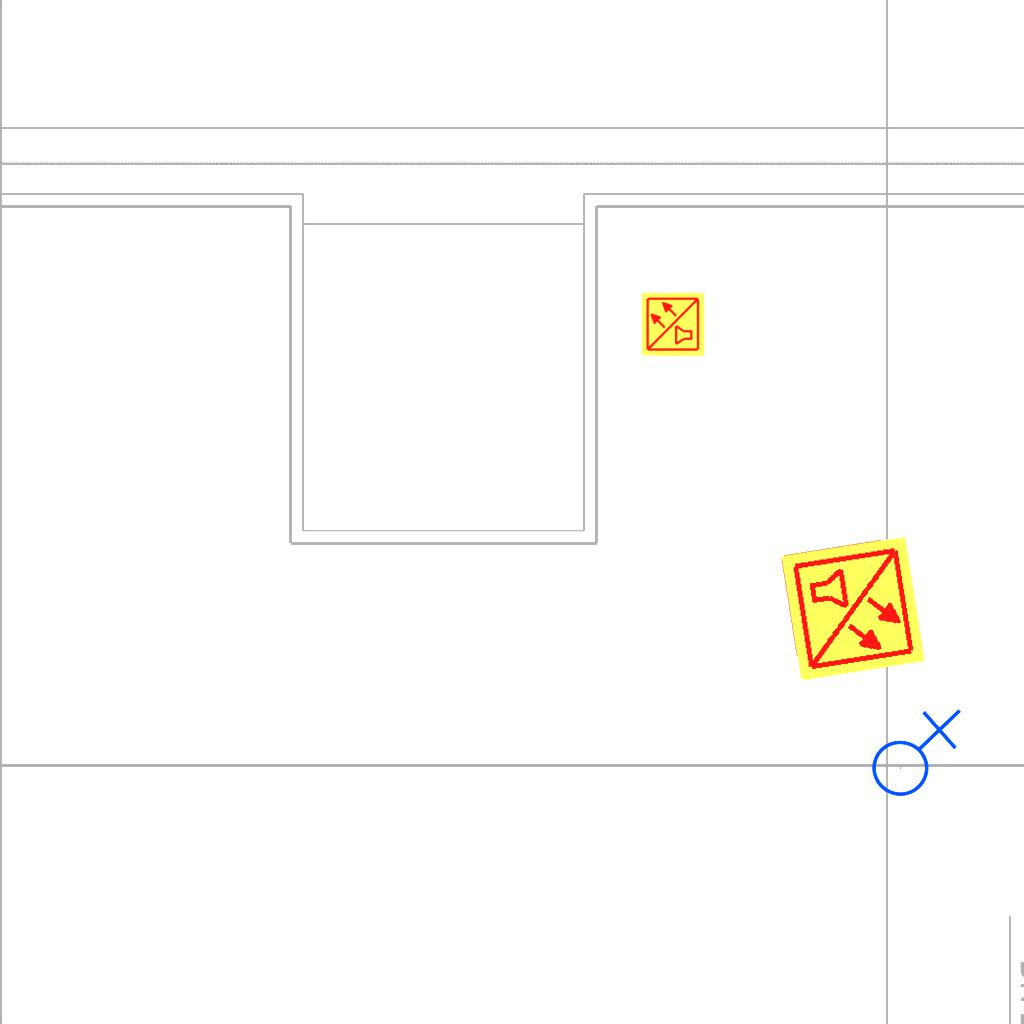Elektroanschluss_allgemein_230V_Geraeteanschlussdose_230V: (863, 704, 962, 798)
OKW_Multisensormelder_(Kombination_optischer_Rauch-Kahlenmonoxid_Waerme-Melder): (777, 533, 929, 685), (640, 291, 706, 357)
